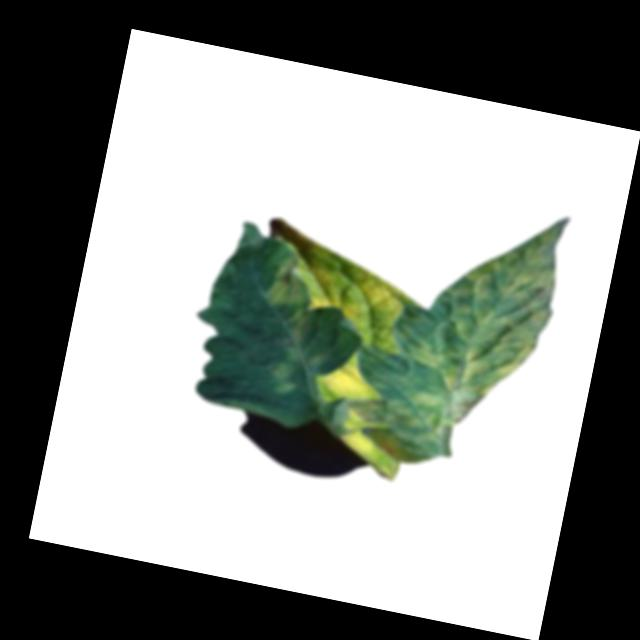Leaf_Mold: (370, 191, 570, 492), (307, 263, 411, 335), (257, 248, 323, 341), (315, 349, 385, 411), (344, 427, 382, 458)
